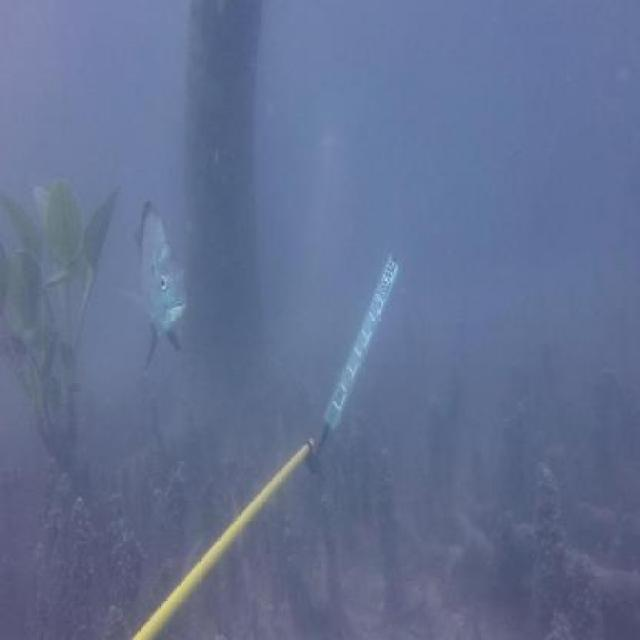acanthopagrus_palmaris: (132, 192, 192, 374)
